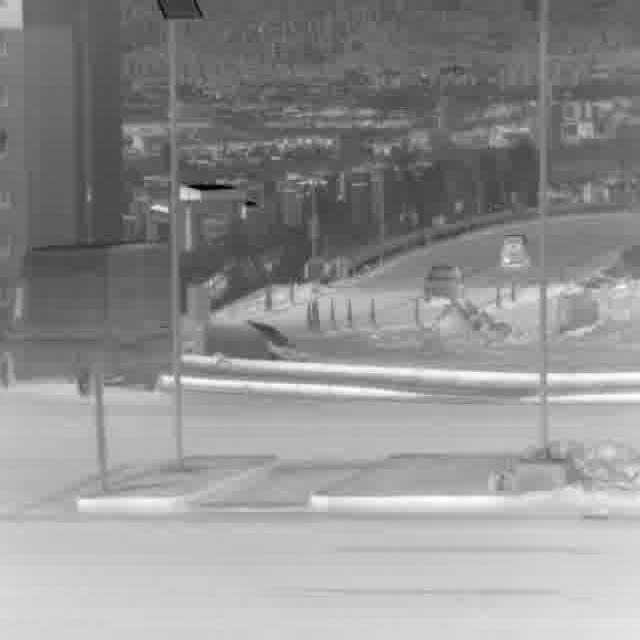Car: (0, 240, 174, 387), (423, 260, 465, 304), (501, 230, 535, 267)
